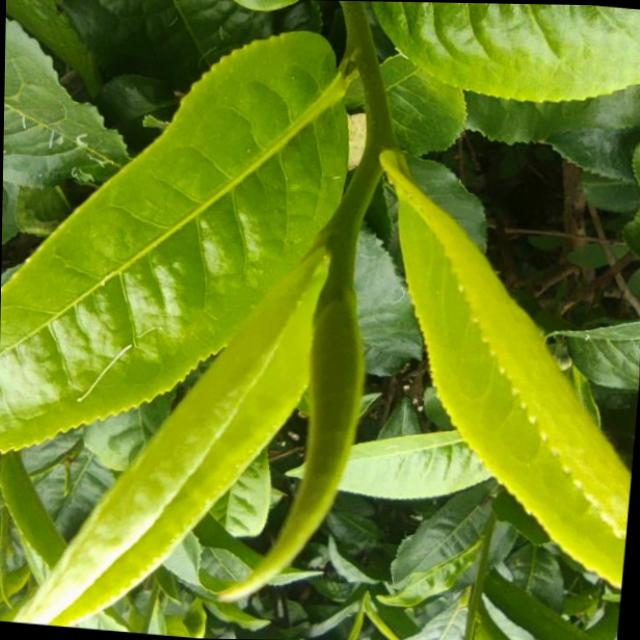Stem: (323, 199, 368, 243)
